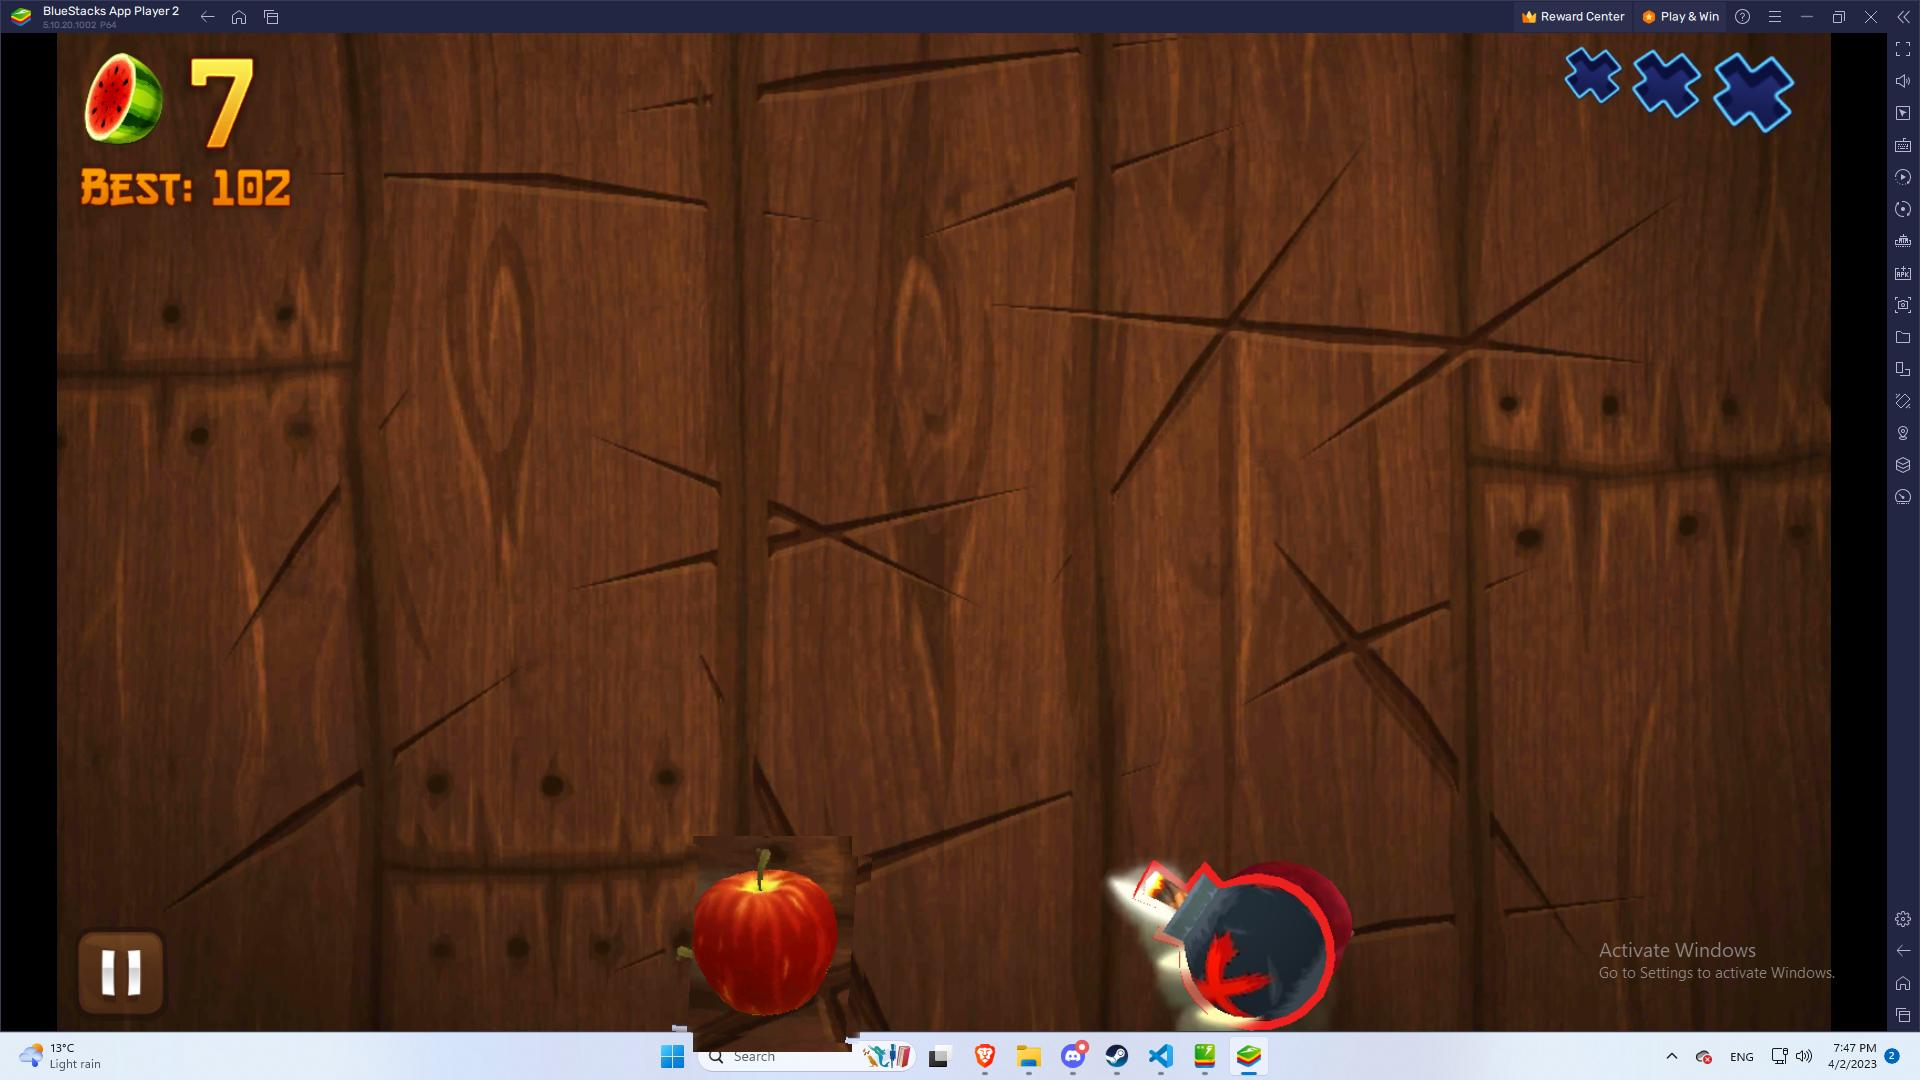bomb: (1113, 860, 1352, 1021)
fruit: (675, 848, 869, 1042)
